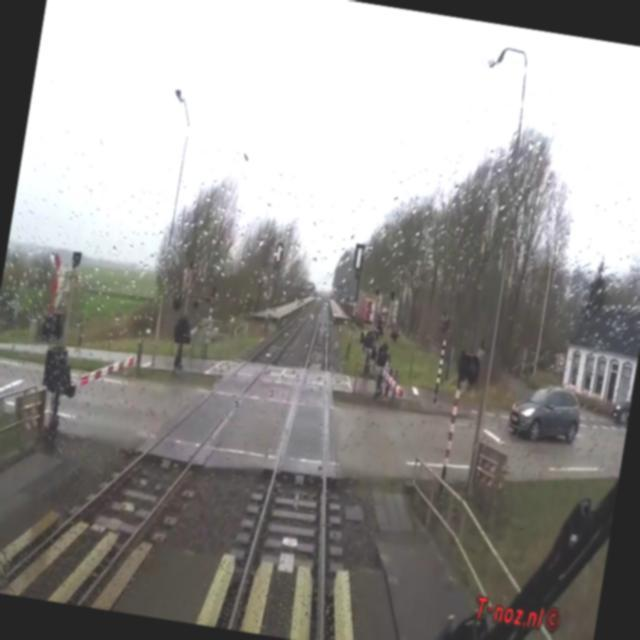rail: (186, 298, 353, 640)
